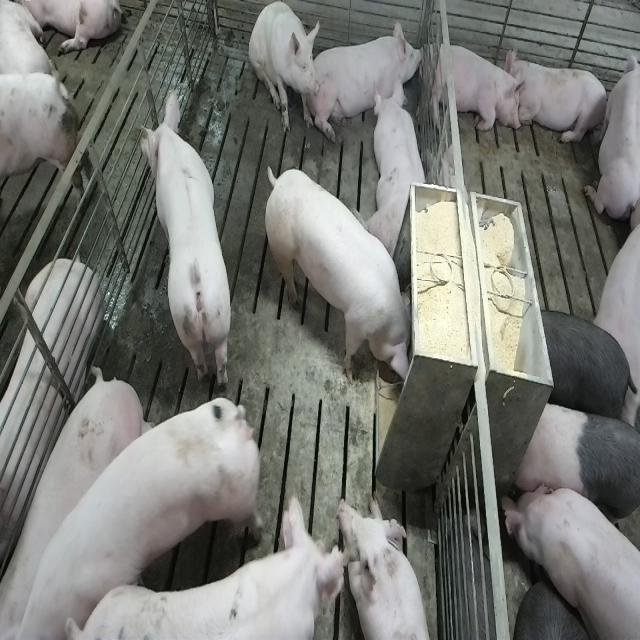Feeding: (270, 165, 421, 392)
Lateral_lying: (0, 256, 102, 602)
Sitting: (249, 2, 319, 137)
Standing: (10, 389, 267, 640), (0, 370, 150, 640), (138, 83, 234, 386), (499, 476, 638, 640), (511, 399, 638, 558), (536, 304, 636, 426)
Sternal_lying: (336, 494, 434, 640), (314, 12, 424, 138), (370, 80, 430, 262), (425, 37, 524, 138), (510, 52, 610, 149), (585, 41, 637, 226)
